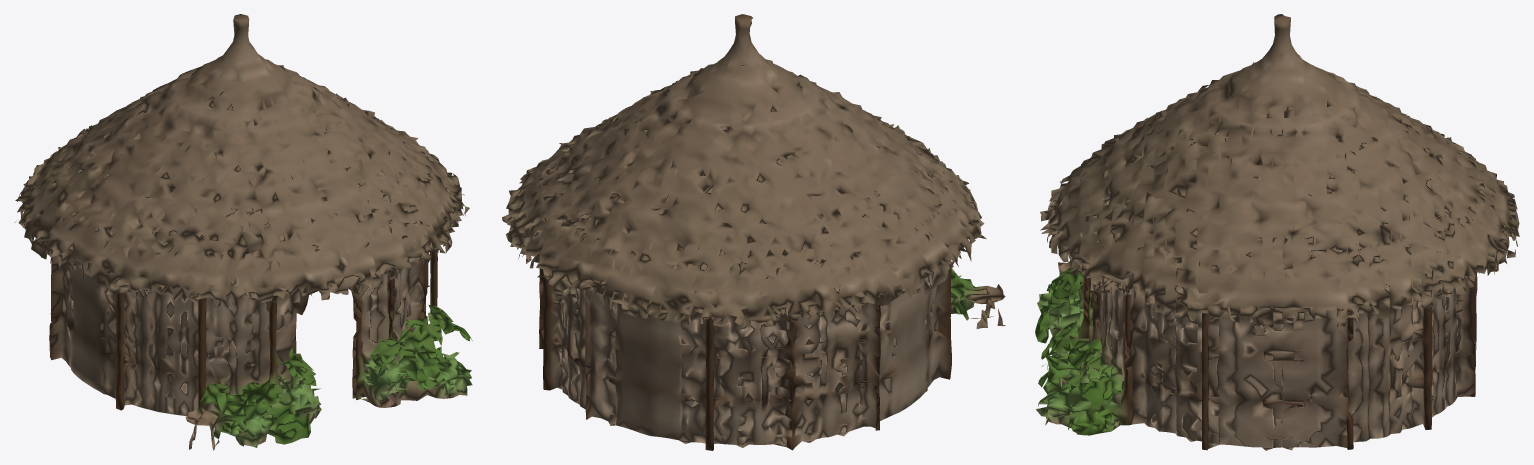
File: haus_tropen.glb
3 views of the same model, side by side, from view 1: azimuth 30°, elevation 25°; view 2: azimuth 150°, elevation 25°; view 3: azimuth 270°, elevation 25° (orthographic). The views are drawn at different scales.
Bounding box in the file's own units: 1.85 × 1.49 × 1.86.
